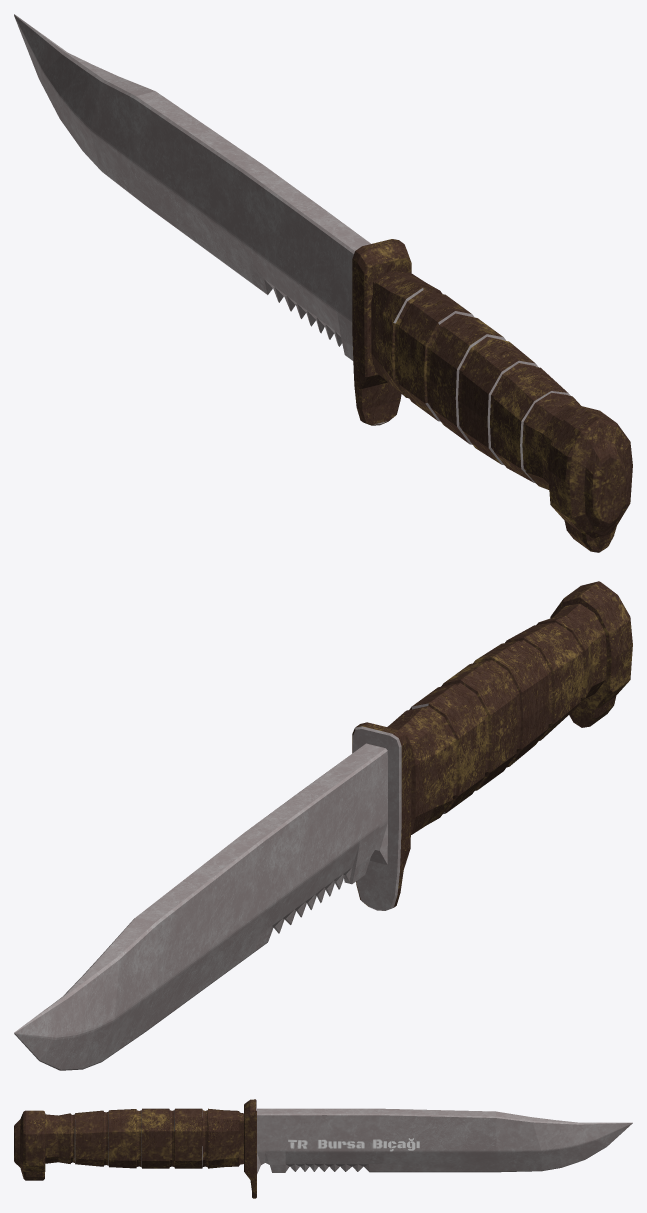
File: Knife.fbx
3 renders of one model, top to bottom at view 1: azimuth 30°, elevation 25°; view 2: azimuth 150°, elevation 25°; view 3: azimuth 270°, elevation 25°, orthographic. The views are drawn at different scales.
Visible parts, largest first — view 1: Skm; view 2: Skm; view 3: Skm.
Part boxes in pixels (bbox=[...]): Skm: bbox=[14, 14, 632, 552]; Skm: bbox=[14, 581, 632, 1070]; Skm: bbox=[14, 1099, 632, 1198].
Size of the model in its own units: 0.1262 by 0.3211 by 1.92.
2 materials, 2 textured.
